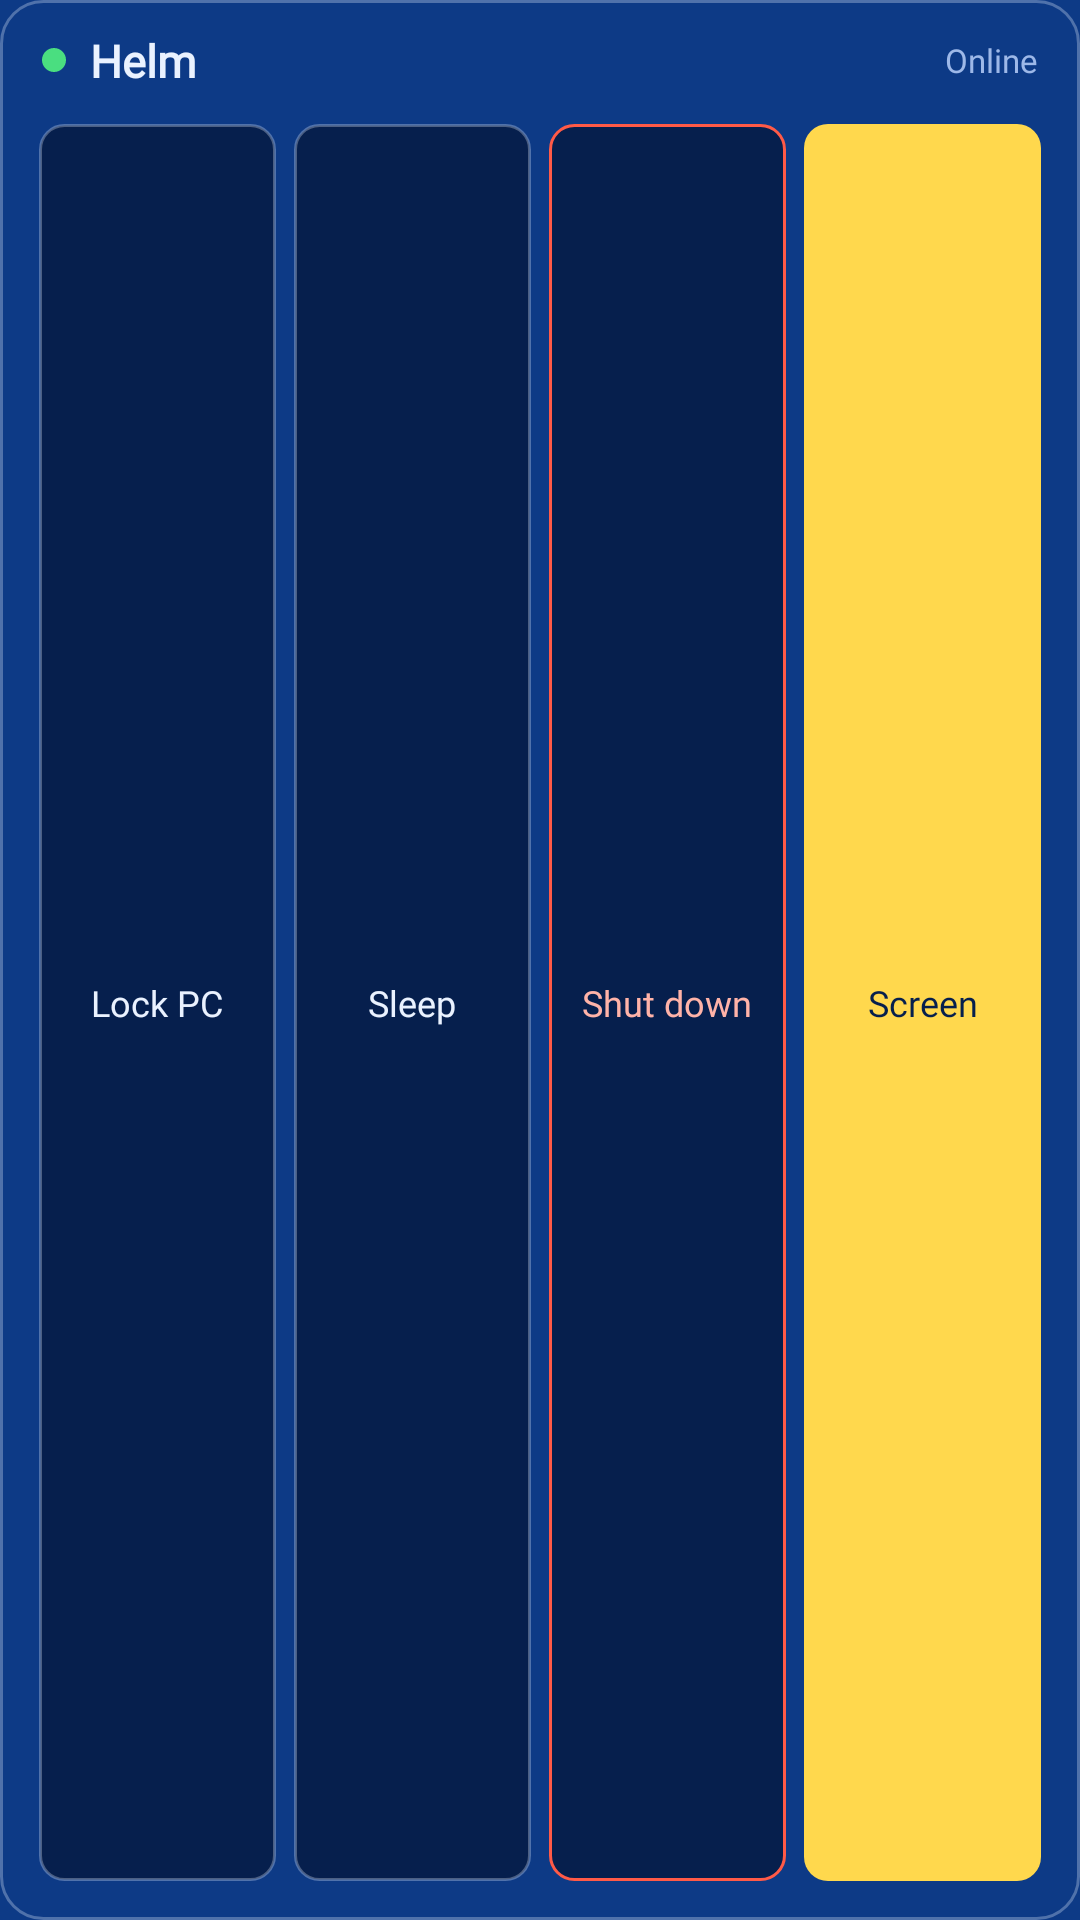

Named icons in this screenshot (1080 × 1920) and their centers, (x,y):
widget dot online: (54,60)
